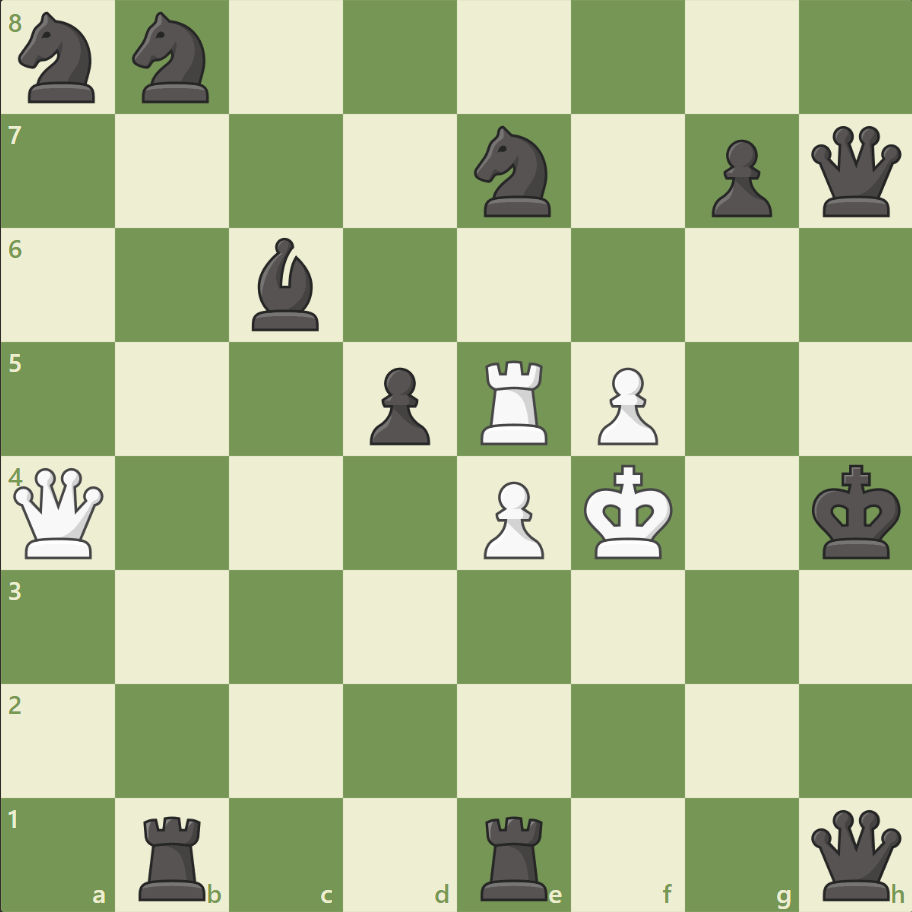K: (579, 458, 679, 566)
P: (474, 473, 549, 564), (588, 359, 662, 450)
Q: (10, 463, 109, 562)
R: (473, 352, 556, 449)
b: (244, 233, 328, 336)
k: (806, 458, 906, 566)
n: (124, 7, 222, 110), (11, 7, 108, 110), (465, 121, 562, 223)
p: (701, 132, 776, 223), (361, 359, 435, 450)
q: (805, 122, 904, 222), (805, 804, 904, 903)
r: (473, 806, 556, 904), (133, 806, 215, 904)
